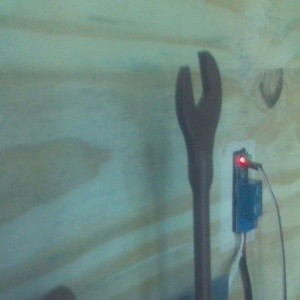spanner: (174, 49, 223, 300)
